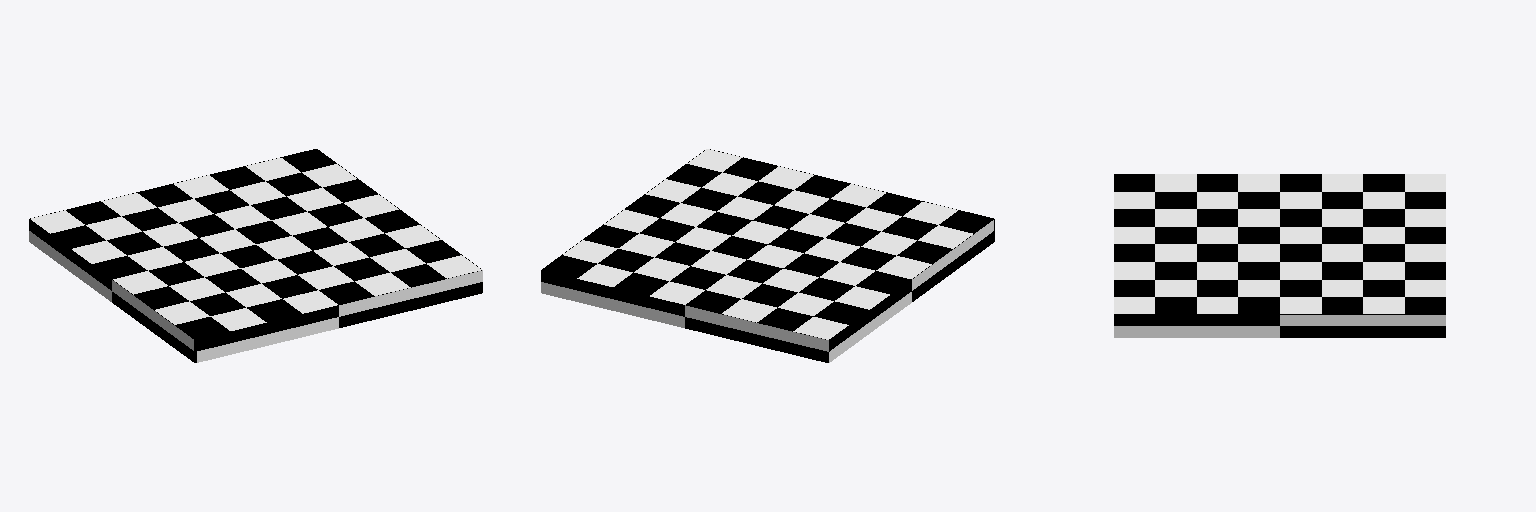
3 views of the same model, side by side, from view 1: azimuth 30°, elevation 25°; view 2: azimuth 150°, elevation 25°; view 3: azimuth 270°, elevation 25° (orthographic).
Visible parts, largest first — view 1: Cube; view 2: Cube; view 3: Cube.
Part boxes in pixels (bbox=[...]): Cube: bbox=[29, 149, 482, 362]; Cube: bbox=[541, 149, 994, 362]; Cube: bbox=[1114, 174, 1445, 337].
Size of the model in its own units: 2 by 0.1531 by 2.
1 materials, 1 textured.